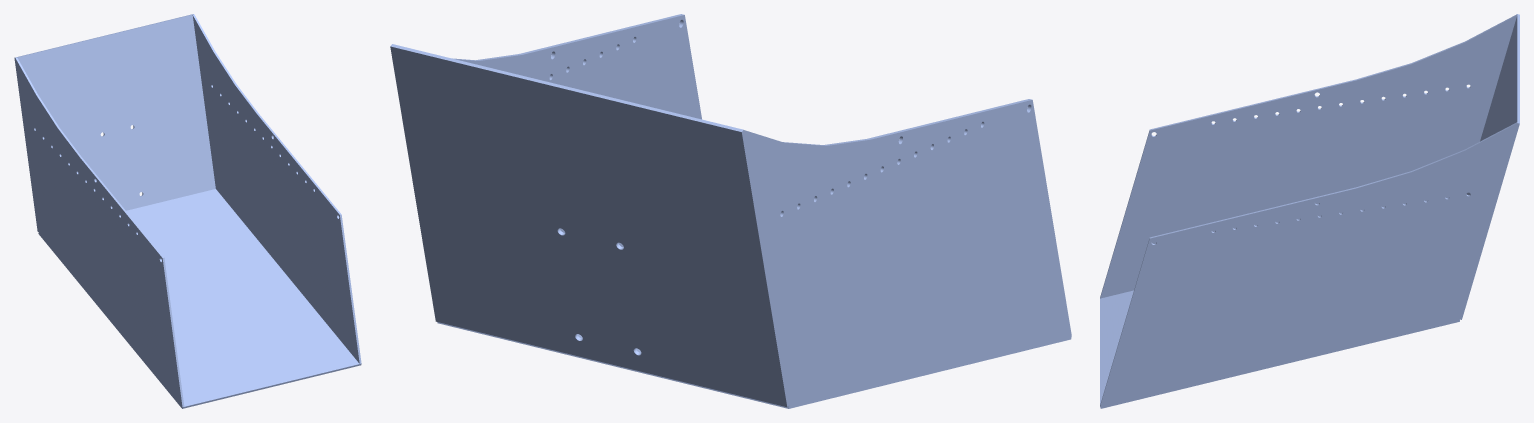
The model's file is v2_bucket.dae.
3 views of the same model, side by side, from view 1: azimuth 30°, elevation 25°; view 2: azimuth 150°, elevation 25°; view 3: azimuth 270°, elevation 25° (orthographic). The views are drawn at different scales.
Parts seen in each view (by area): view 1: node_db819dc5_5f54_4b70_b74a_101b13f2249b_mesh0; view 2: node_db819dc5_5f54_4b70_b74a_101b13f2249b_mesh0; view 3: node_db819dc5_5f54_4b70_b74a_101b13f2249b_mesh0.
Part boxes in pixels (x1,y1,x2,y2): node_db819dc5_5f54_4b70_b74a_101b13f2249b_mesh0: (14, 14, 361, 408); node_db819dc5_5f54_4b70_b74a_101b13f2249b_mesh0: (390, 14, 1071, 408); node_db819dc5_5f54_4b70_b74a_101b13f2249b_mesh0: (1100, 14, 1519, 408).
Size of the model in its own units: 0.3048 by 0.3724 by 0.4957.
